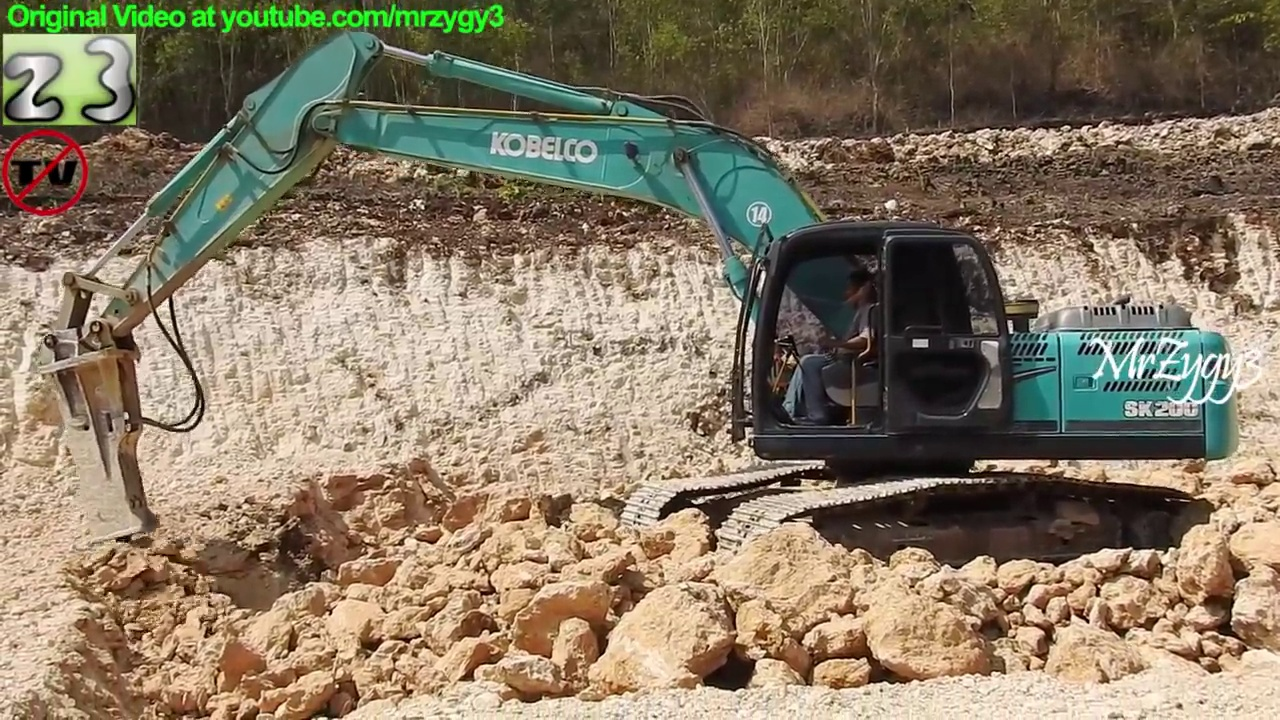excavator breaker: (36, 26, 1244, 572)
